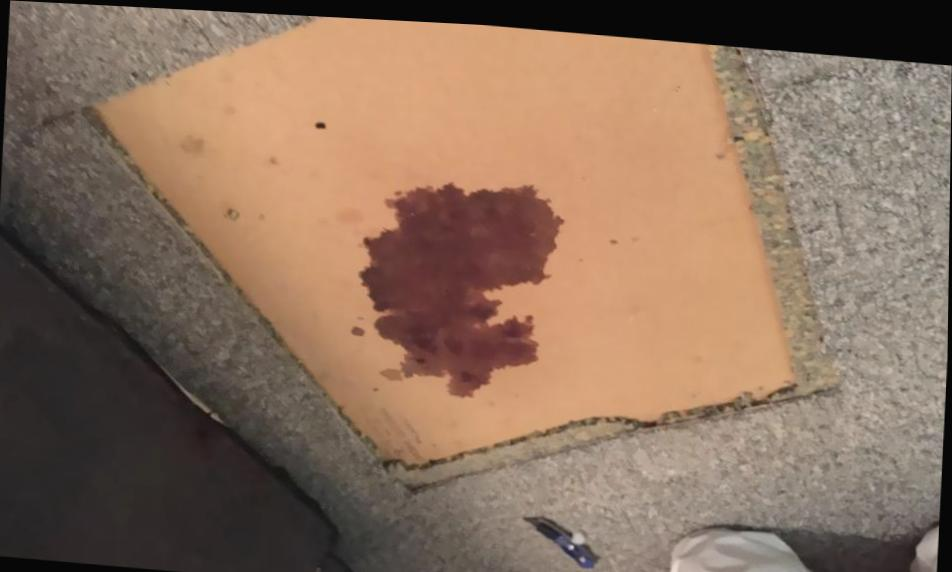Fire: (358, 177, 564, 393)
